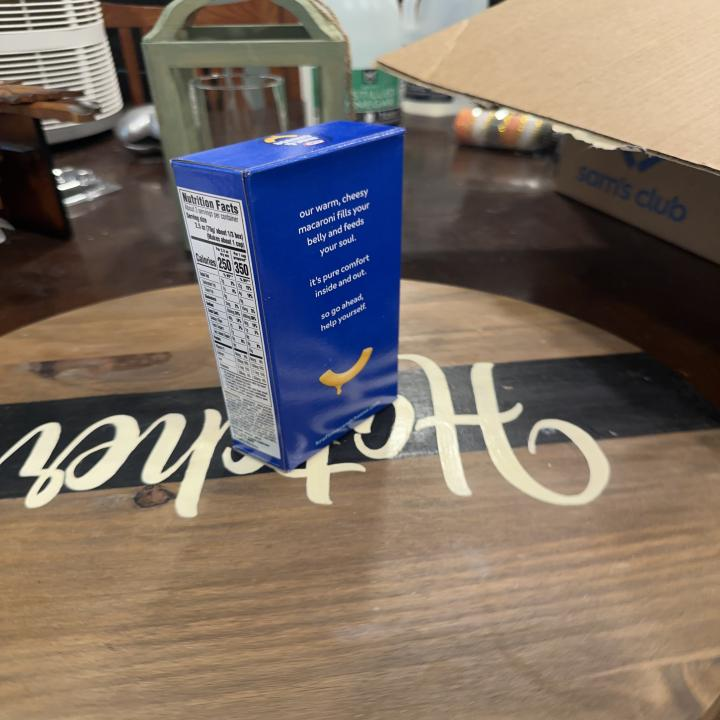Mac-And-Cheese: (169, 119, 408, 473)
